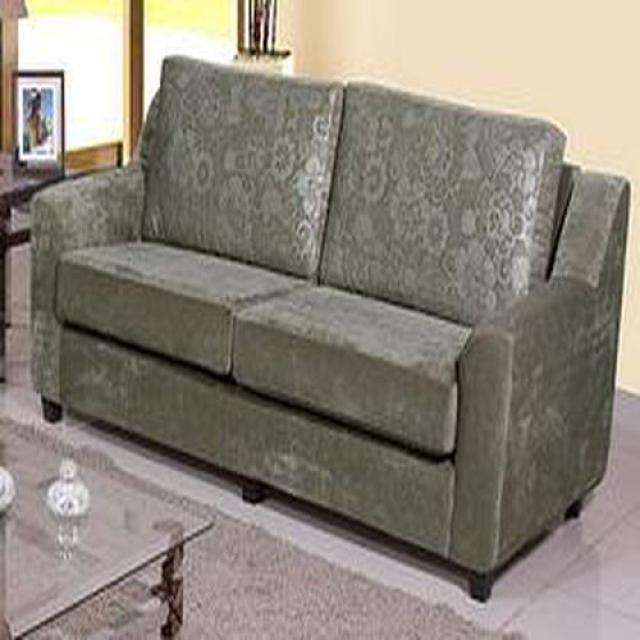sofa: (31, 56, 630, 600)
